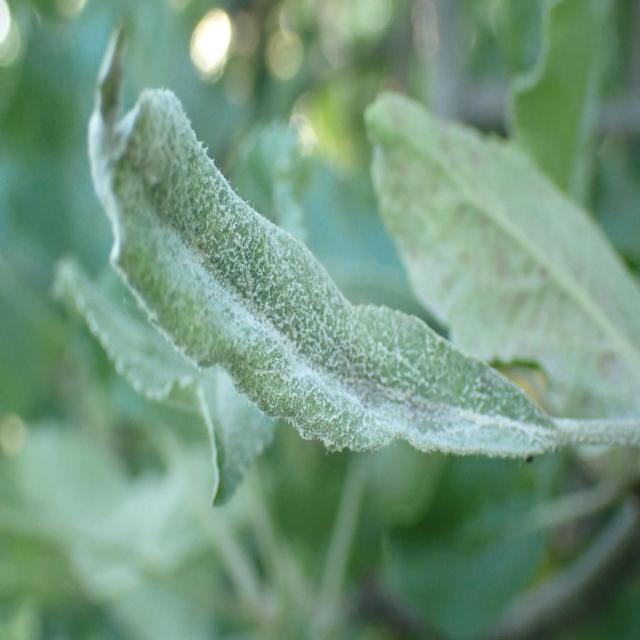Powdery_mildew: (88, 0, 568, 475)
